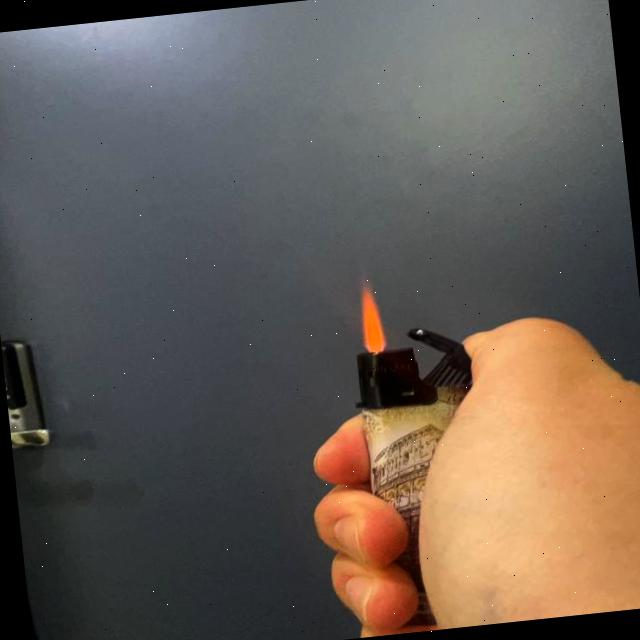fire: (356, 277, 392, 355)
